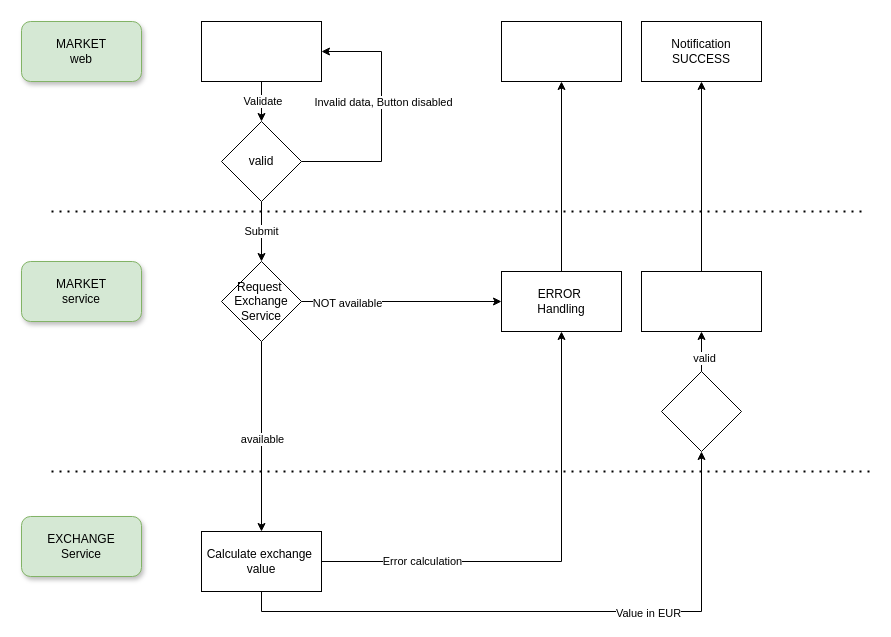
This 891x637 diagram has some shape labels left out. Each missing label, with the centre of its shape:
Notification ERROR: the point at 561,51
Store Product: the point at 701,301
User enter values: the point at 261,51
validate Data: the point at 701,411
